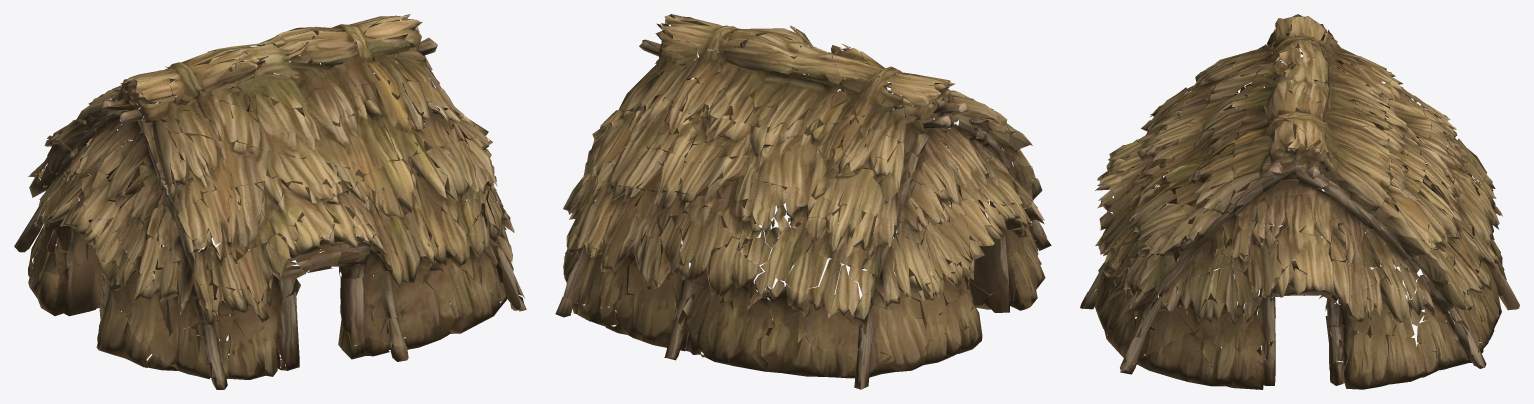
The model's file is mapuches_casa.glb.
3 renders of one model, left to right at view 1: azimuth 30°, elevation 25°; view 2: azimuth 150°, elevation 25°; view 3: azimuth 270°, elevation 25°, orthographic. The views are drawn at different scales.
Parts seen in each view (by area): view 1: Mesh_0; view 2: Mesh_0; view 3: Mesh_0.
Part boxes in pixels (<box>): Mesh_0: <box>14,14,526,389</box>; Mesh_0: <box>555,14,1051,389</box>; Mesh_0: <box>1080,14,1519,389</box>.
Size of the model in its own units: 1.91 by 1.05 by 1.82.
Materials: 1 (1 with a texture image).
